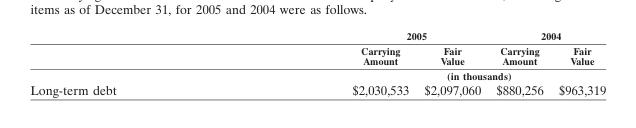table: (29, 29, 605, 97)
table column: (29, 29, 233, 97), (233, 29, 415, 97), (415, 29, 487, 97), (487, 29, 550, 97), (550, 29, 605, 97)
table column header: (29, 29, 605, 81)
table row: (29, 42, 605, 67), (29, 81, 605, 97), (29, 67, 605, 81), (29, 29, 605, 42)
table spanning cell: (233, 67, 605, 81), (233, 29, 487, 42), (487, 29, 605, 42)
